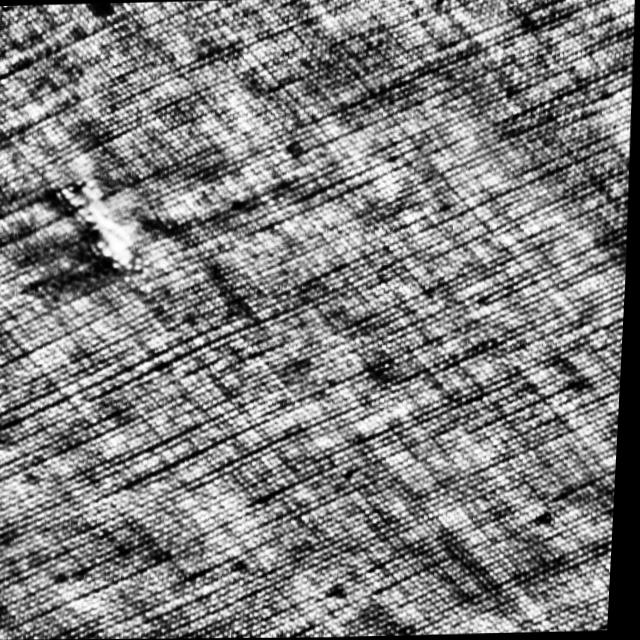Hole: (33, 174, 157, 283)
